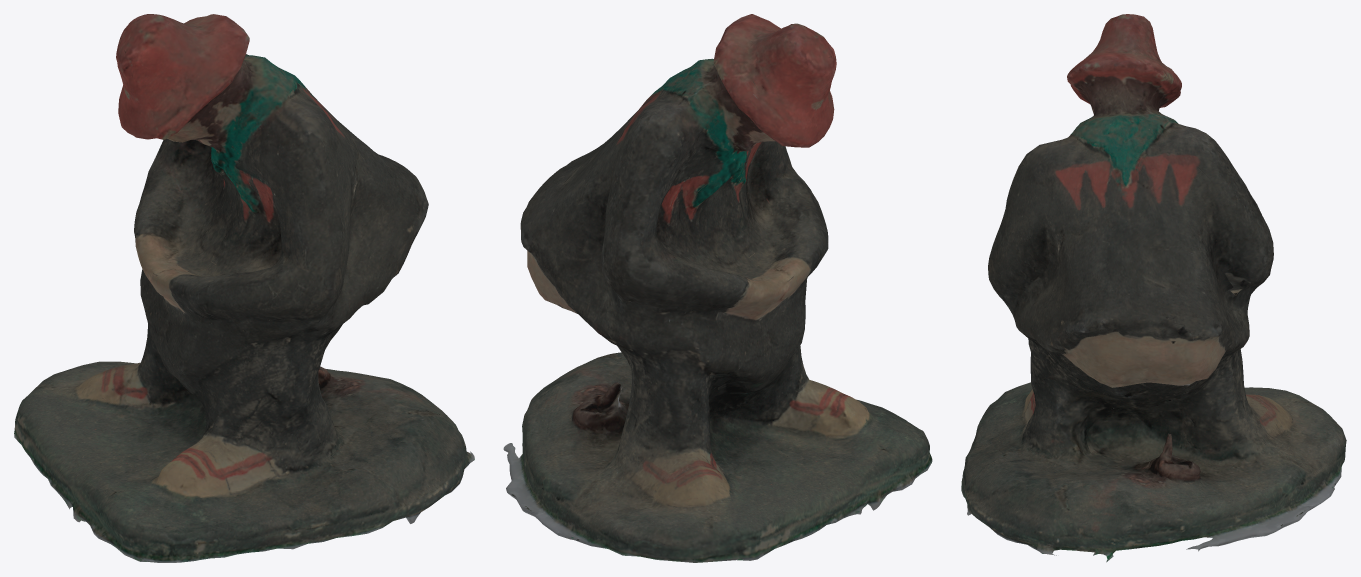
Rendered from figurine_343915fb.glb.
3 renders of one model, left to right at view 1: azimuth 30°, elevation 25°; view 2: azimuth 150°, elevation 25°; view 3: azimuth 270°, elevation 25°, orthographic. The views are drawn at different scales.
Parts seen in each view (by area): view 1: Object_2; view 2: Object_2; view 3: Object_2.
Part boxes in pixels (x1,y1,x2,y2): Object_2: (14,14,474,562); Object_2: (503,14,932,562); Object_2: (961,14,1346,562).
Bounding box in the file's own units: 0.5648 × 0.7152 × 0.5806.
Materials: 1 (1 with a texture image).
